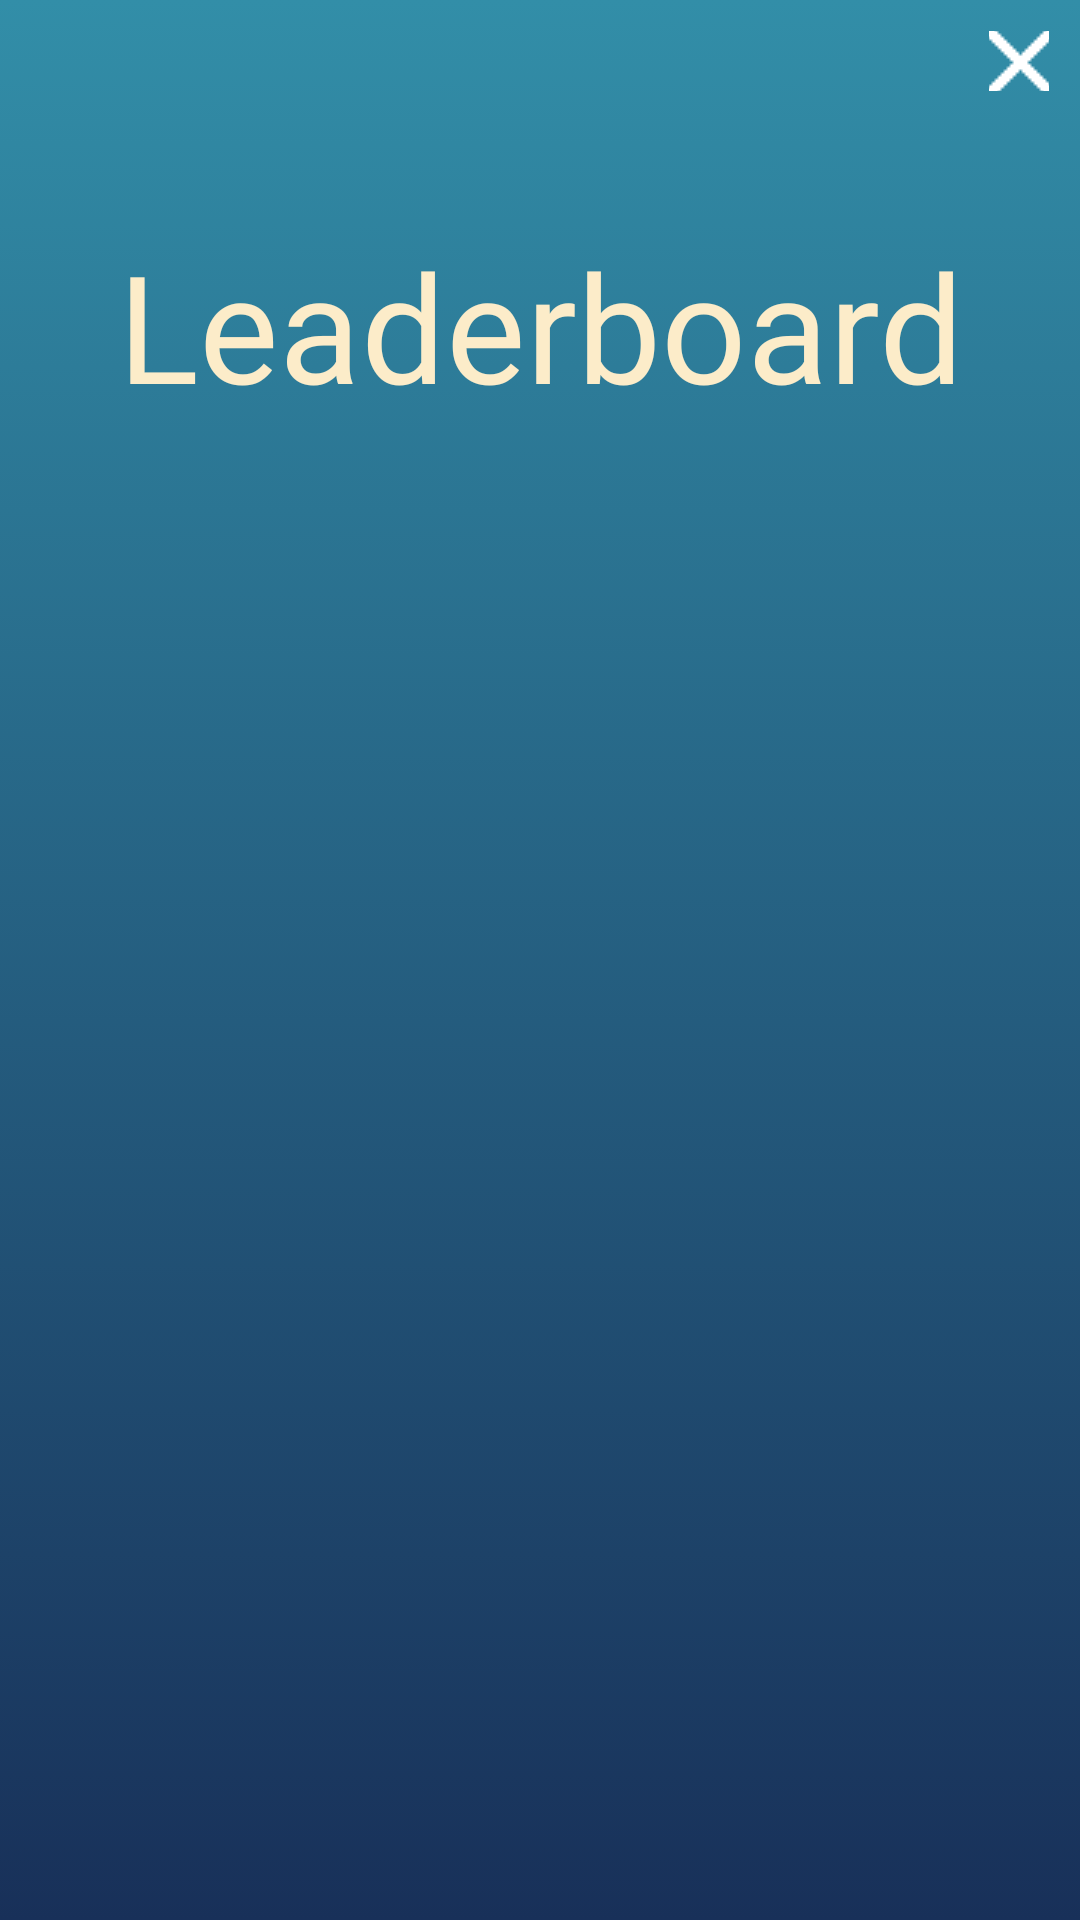

Named icons in this screenshot (1080px x 1920px) and their centers, (x,y):
exit: (1019,61)
